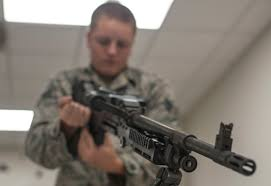gun: (68, 74, 256, 182)
